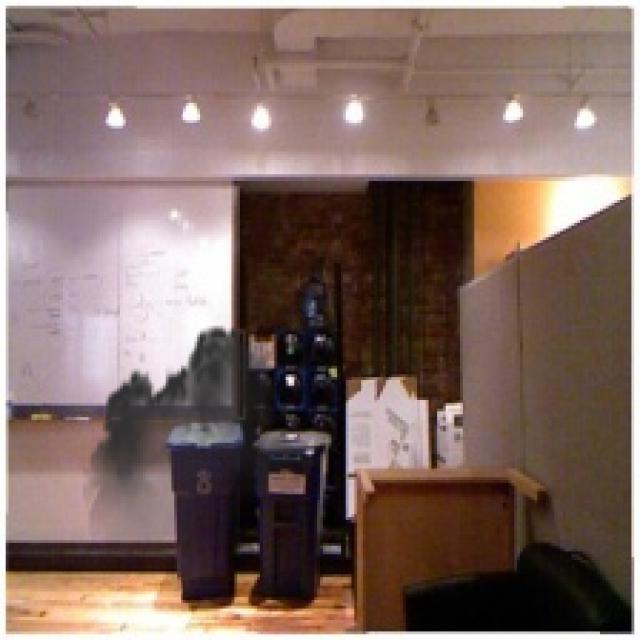smoke: (83, 314, 323, 592)
